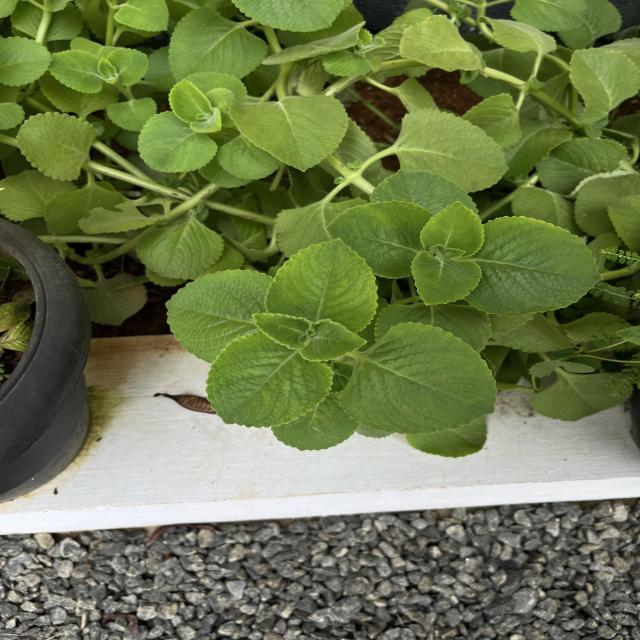Plectranthus barbatus: (338, 320, 500, 436), (464, 214, 604, 318), (204, 330, 335, 430), (264, 236, 379, 334), (164, 268, 273, 365), (395, 106, 508, 195), (228, 92, 350, 174), (324, 200, 432, 280), (167, 6, 269, 84), (15, 110, 96, 182), (134, 219, 226, 281), (136, 110, 218, 173), (566, 46, 640, 115), (398, 13, 482, 72), (408, 250, 484, 308), (419, 200, 486, 258), (300, 318, 368, 362), (0, 35, 54, 87), (250, 311, 312, 351), (50, 49, 104, 94), (105, 96, 158, 132), (106, 47, 150, 88)
